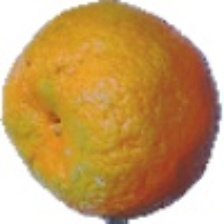tangerine: (42, 29, 209, 213)
